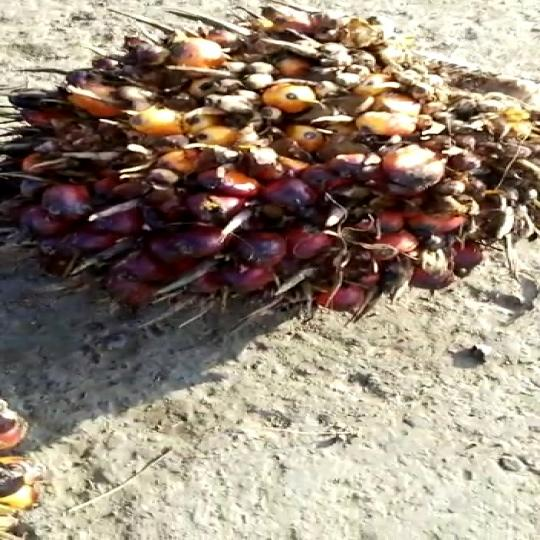masak: (0, 0, 540, 334)
